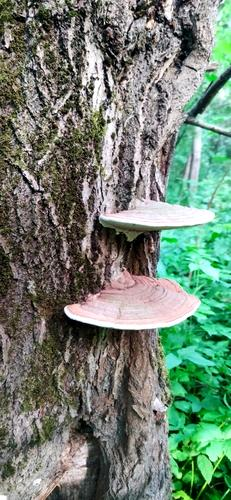Ganoderma - Fruit Body: (61, 275, 201, 329), (99, 194, 218, 240)
